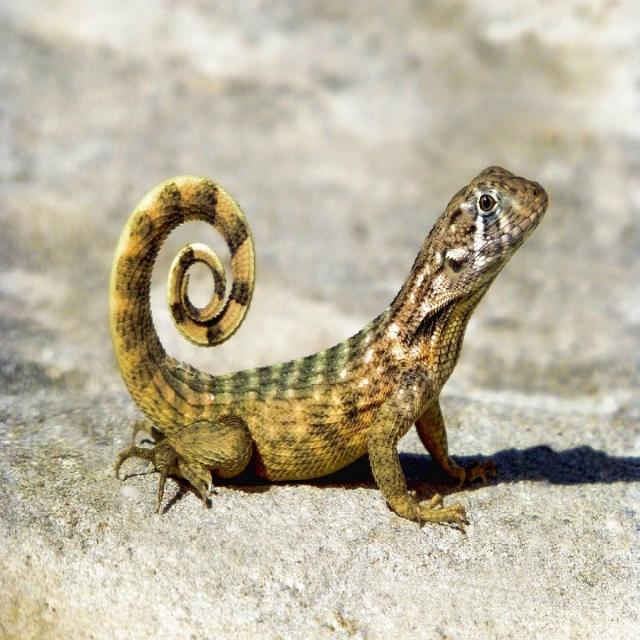Lizard: (103, 161, 550, 535)
